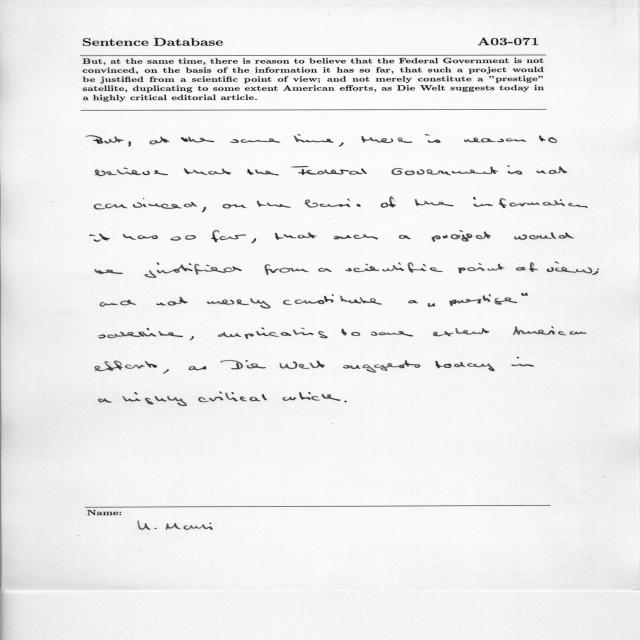word: (144, 262, 242, 278), (473, 197, 588, 208), (218, 328, 328, 339), (94, 198, 197, 209), (283, 294, 382, 305), (345, 262, 443, 273), (343, 360, 420, 373), (392, 167, 498, 176), (98, 328, 183, 339), (122, 392, 187, 406), (450, 294, 517, 306), (432, 230, 491, 242), (207, 298, 271, 309), (198, 392, 267, 402), (291, 166, 367, 175), (547, 262, 598, 275), (513, 327, 586, 336), (95, 361, 157, 371), (435, 361, 495, 371), (95, 168, 168, 176), (304, 199, 361, 208), (265, 264, 309, 275), (514, 232, 574, 240), (458, 263, 504, 273), (433, 328, 489, 336), (211, 230, 246, 242), (220, 360, 266, 369), (294, 134, 334, 143), (280, 361, 325, 369), (362, 136, 413, 143), (86, 135, 124, 144), (282, 392, 320, 401), (184, 168, 232, 175), (275, 232, 317, 240), (464, 138, 526, 143), (157, 297, 188, 306), (415, 199, 454, 206), (100, 300, 136, 307), (230, 138, 280, 143), (537, 167, 567, 175), (257, 201, 291, 208), (511, 357, 534, 367), (334, 235, 378, 240), (516, 262, 538, 272), (123, 234, 158, 240), (371, 331, 413, 336), (181, 137, 215, 143), (247, 169, 279, 175), (90, 233, 110, 242), (381, 197, 396, 208), (150, 137, 170, 145), (171, 235, 197, 241), (95, 269, 123, 274), (425, 134, 440, 143), (508, 166, 523, 175), (342, 329, 361, 336), (322, 394, 341, 401), (539, 136, 557, 143), (223, 204, 247, 208), (189, 366, 207, 370), (99, 398, 112, 403), (318, 268, 332, 272), (399, 235, 411, 239), (408, 300, 418, 304), (163, 369, 169, 374), (428, 303, 435, 307), (251, 239, 256, 244), (521, 293, 528, 296), (339, 143, 344, 147), (202, 207, 206, 212), (189, 336, 194, 340), (128, 142, 131, 147), (344, 401, 347, 403), (597, 268, 599, 270)
